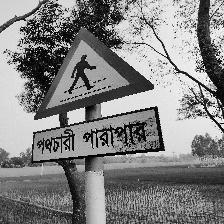Pedestrian-crossing: (31, 27, 163, 164)
